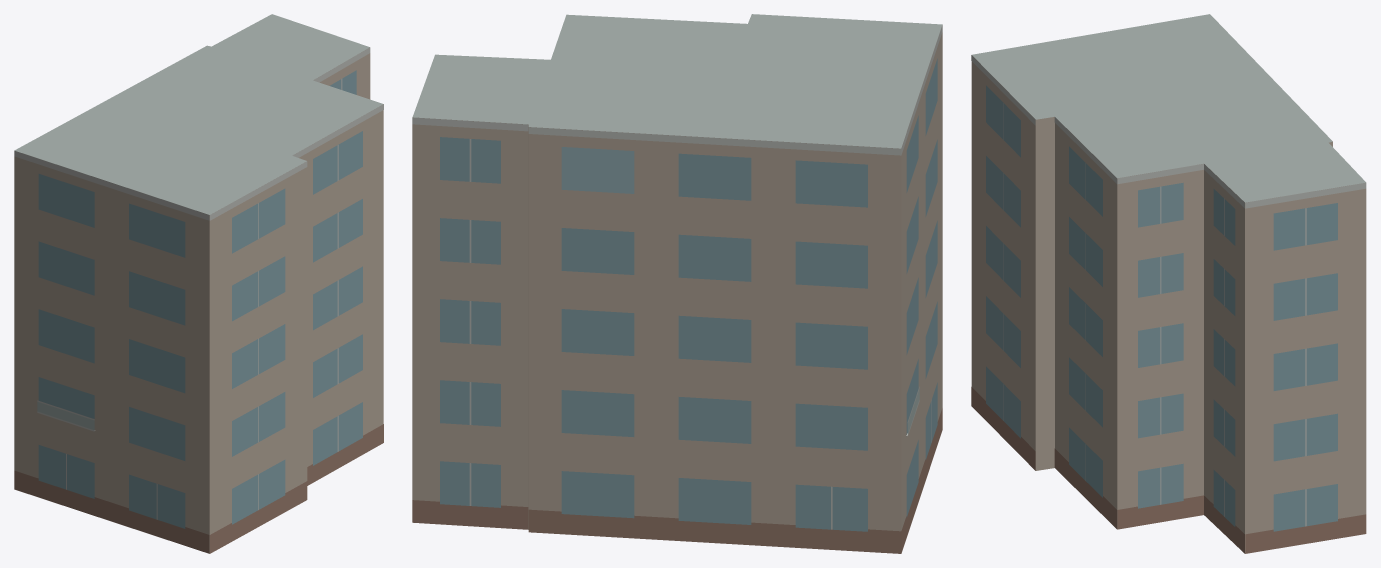
The model's file is survey-upis-32851297.glb.
The picture shows the model from 3 angles, left to right: view 1: azimuth 30°, elevation 25°; view 2: azimuth 150°, elevation 25°; view 3: azimuth 270°, elevation 25°; orthographic projection. The views are drawn at different scales.
Parts seen in each view (by area): view 1: survey-upis-32851297.tmp; view 2: survey-upis-32851297.tmp; view 3: survey-upis-32851297.tmp.
Boxes of the visible parts, bbox=[...] form: survey-upis-32851297.tmp: bbox=[14, 14, 383, 553]; survey-upis-32851297.tmp: bbox=[412, 14, 942, 553]; survey-upis-32851297.tmp: bbox=[971, 14, 1366, 553].
Size of the model in its own units: 16.36 by 14.2 by 14.48.
